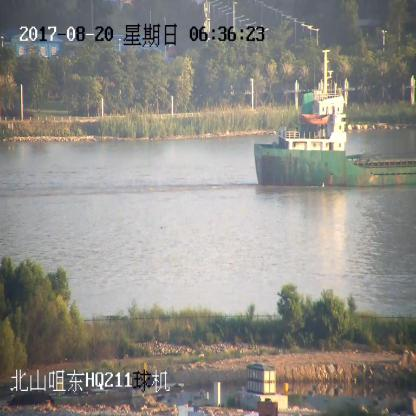Bulk Carrier: (258, 51, 416, 186)
